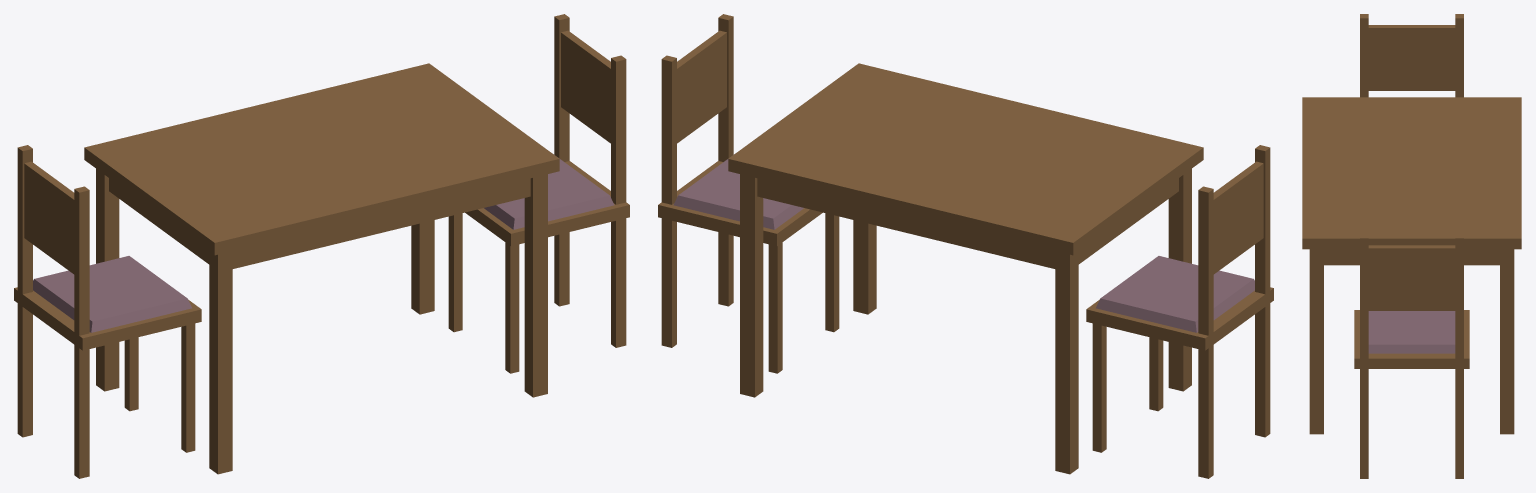
Rendered from table.glb.
3 renders of one model, left to right at view 1: azimuth 30°, elevation 25°; view 2: azimuth 150°, elevation 25°; view 3: azimuth 270°, elevation 25°, orthographic. The views are drawn at different scales.
Visible parts, largest first — view 1: table; view 2: table; view 3: table.
Part boxes in pixels (<box>): table: <box>14,14,629,478</box>; table: <box>658,14,1273,478</box>; table: <box>1302,14,1521,478</box>.
Bounding box in the file's own units: 1.84 × 0.92 × 0.76.
